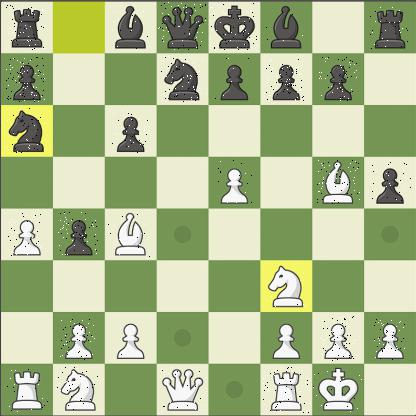Black Bishop: (109, 2, 152, 50)
Black Castle: (6, 6, 46, 52), (370, 7, 410, 51)
Black King: (210, 3, 260, 52)
Black Knight: (161, 56, 204, 103), (6, 108, 48, 154), (266, 5, 304, 50)
Black Pawn: (370, 162, 412, 206), (58, 212, 99, 257), (6, 57, 46, 103), (214, 58, 254, 102), (319, 57, 358, 102), (112, 108, 149, 154), (266, 59, 305, 102)
Black Queen: (158, 2, 207, 51)
White Bishop: (107, 212, 153, 258), (317, 160, 361, 205)
White Castle: (263, 366, 310, 415), (7, 368, 49, 414)
White King: (313, 366, 364, 415)
White Knight: (266, 263, 308, 310), (56, 367, 99, 412)
White Pawn: (267, 316, 307, 363), (217, 158, 254, 207), (8, 213, 46, 257), (320, 316, 356, 362), (112, 318, 151, 360), (60, 319, 96, 361), (374, 319, 406, 361)
White Queen: (158, 366, 208, 413)
